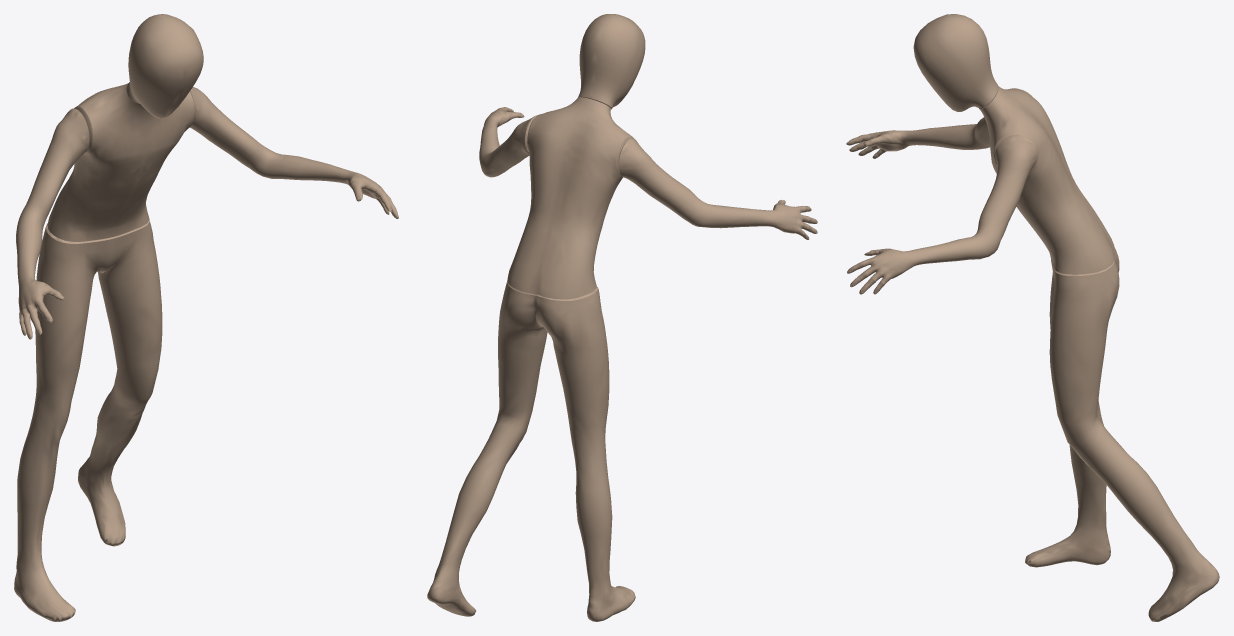
File: Mannequin_Pose_Run.fbx
3 views of the same model, side by side, from view 1: azimuth 30°, elevation 25°; view 2: azimuth 150°, elevation 25°; view 3: azimuth 270°, elevation 25° (orthographic). The views are drawn at different scales.
Parts seen in each view (by area): view 1: Mannequin_Run; view 2: Mannequin_Run; view 3: Mannequin_Run.
Part boxes in pixels (bbox=[...]): Mannequin_Run: bbox=[14, 14, 398, 621]; Mannequin_Run: bbox=[427, 14, 817, 621]; Mannequin_Run: bbox=[846, 14, 1219, 621].
Bounding box in the file's own units: 140 × 224 × 131.
